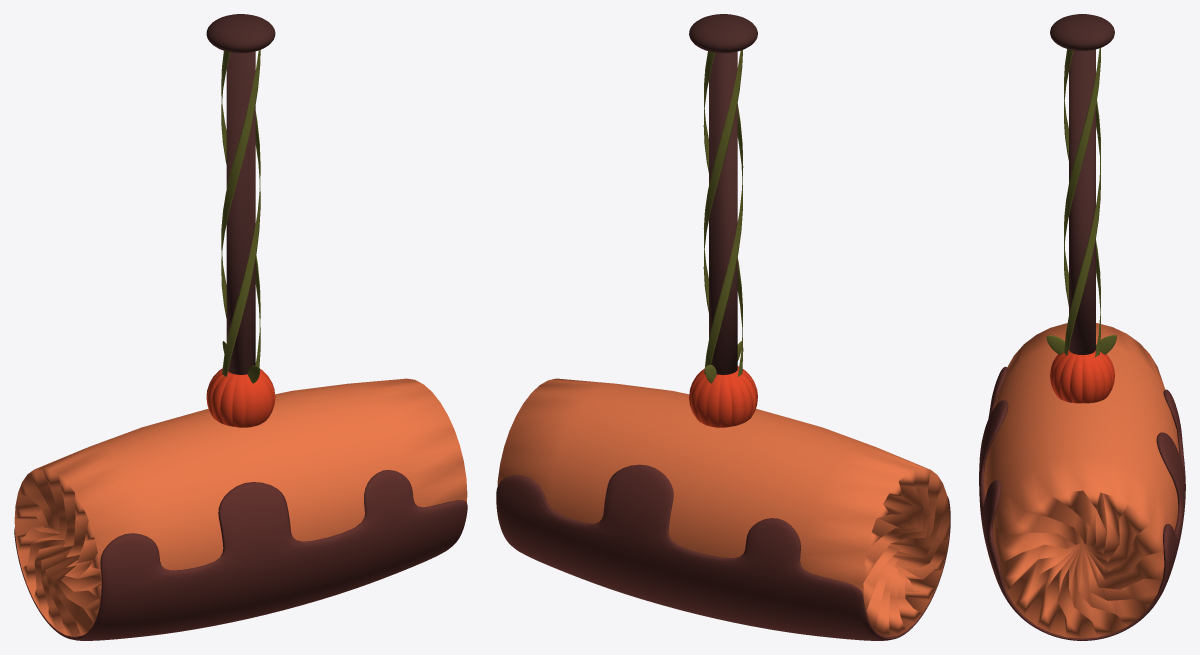
Rendered from BossMazo.fbx.
3 renders of one model, left to right at view 1: azimuth 30°, elevation 25°; view 2: azimuth 150°, elevation 25°; view 3: azimuth 270°, elevation 25°, orthographic. The views are drawn at different scales.
Parts seen in each view (by area): view 1: Mazo; view 2: Mazo; view 3: Mazo.
Part boxes in pixels (box(x1,y1,x2,y2)): Mazo: box(14, 14, 467, 640); Mazo: box(496, 14, 950, 640); Mazo: box(979, 14, 1185, 640).
Size of the model in its own units: 1.28 by 1.89 by 0.6399.
